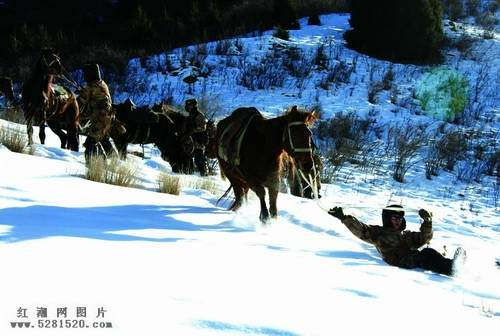fall: (326, 193, 471, 280)
